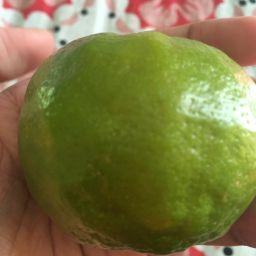Unripe: (15, 30, 253, 251)
